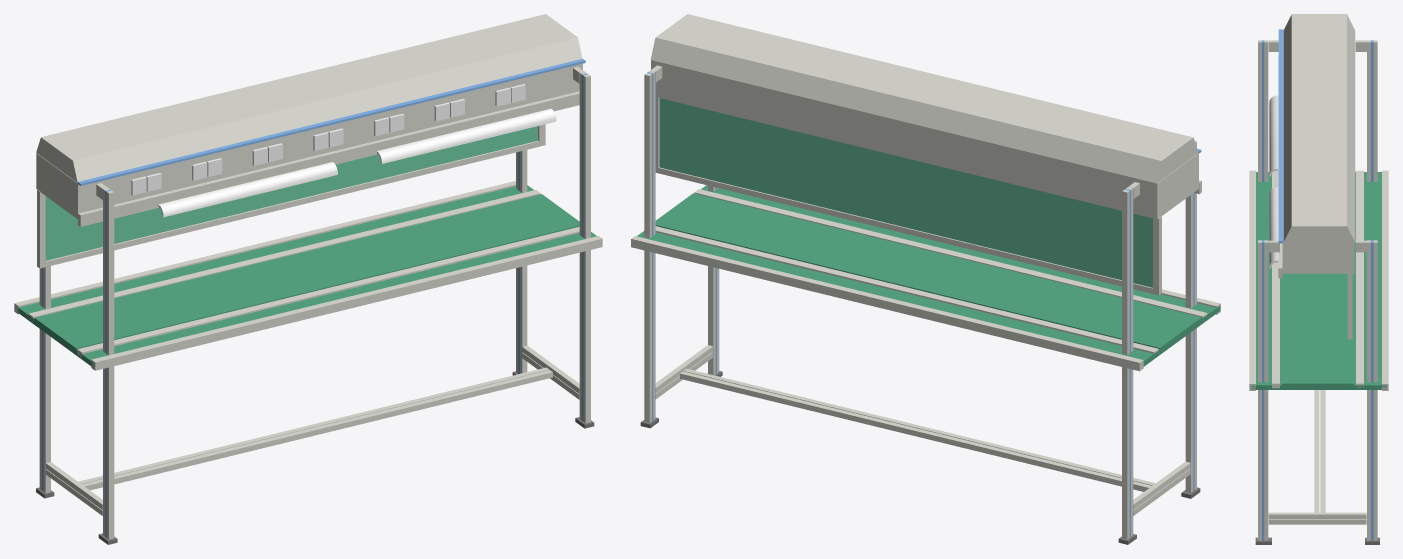
File: workspace.glb
3 renders of one model, left to right at view 1: azimuth 30°, elevation 25°; view 2: azimuth 150°, elevation 25°; view 3: azimuth 270°, elevation 25°, orthographic. The views are drawn at different scales.
Parts seen in each view (by area): view 1: 立方体_18, 立方体_8, 立方体_16, 立方体_17, 立方体_7, 立方体_11, 立方体_19, 立方体_25, 立方体_6, 立方体_28, 立方体_13, 立方体_10 (+8 smaller); view 2: 立方体_17, 立方体_18, 立方体_8, 立方体_16, 立方体_7, 立方体_12, 立方体_25, 立方体_5, 立方体, 立方体_26, 立方体_9, 立方体_28 (+3 smaller); view 3: 立方体_18, 立方体_8, 立方体_7, 立方体, 立方体_13, 立方体_16, 立方体_9, 立方体_26, 立方体_28, 立方体_11, 立方体_12, 立方体_20 (+9 smaller).
Part boxes in pixels (x1=…): 立方体_18: x1=36, y1=14, x2=582, y2=182; 立方体_8: x1=34, y1=194, x2=579, y2=353; 立方体_16: x1=36, y1=63, x2=582, y2=219; 立方体_17: x1=45, y1=126, x2=537, y2=260; 立方体_7: x1=18, y1=185, x2=596, y2=367; 立方体_11: x1=91, y1=236, x2=602, y2=370; 立方体_19: x1=78, y1=91, x2=579, y2=226; 立方体_25: x1=37, y1=124, x2=545, y2=268; 立方体_6: x1=82, y1=370, x2=552, y2=490; 立方体_28: x1=103, y1=188, x2=114, y2=539; 立方体_13: x1=579, y1=71, x2=590, y2=423; 立方体_10: x1=77, y1=226, x2=579, y2=357; 立方体_17: x1=659, y1=98, x2=1152, y2=287; 立方体_18: x1=650, y1=14, x2=1198, y2=183; 立方体_8: x1=655, y1=193, x2=1201, y2=349; 立方体_16: x1=651, y1=60, x2=1198, y2=219; 立方体_7: x1=637, y1=185, x2=1219, y2=366; 立方体_12: x1=631, y1=236, x2=1143, y2=371; 立方体_25: x1=655, y1=97, x2=1161, y2=295; 立方体_5: x1=679, y1=371, x2=1151, y2=491; 立方体: x1=644, y1=70, x2=655, y2=422; 立方体_26: x1=1122, y1=187, x2=1133, y2=539; 立方体_9: x1=655, y1=226, x2=1158, y2=354; 立方体_28: x1=1185, y1=141, x2=1196, y2=492; 立方体_18: x1=1283, y1=14, x2=1355, y2=242; 立方体_8: x1=1282, y1=243, x2=1353, y2=388; 立方体_7: x1=1250, y1=172, x2=1386, y2=389; 立方体: x1=1367, y1=240, x2=1377, y2=540; 立方体_13: x1=1258, y1=240, x2=1268, y2=540; 立方体_16: x1=1283, y1=30, x2=1354, y2=273; 立方体_9: x1=1356, y1=170, x2=1363, y2=387; 立方体_26: x1=1367, y1=40, x2=1377, y2=181; 立方体_28: x1=1258, y1=40, x2=1268, y2=181; 立方体_11: x1=1249, y1=170, x2=1255, y2=390; 立方体_12: x1=1382, y1=170, x2=1388, y2=390; 立方体_20: x1=1278, y1=29, x2=1283, y2=243.
Size of the model in its own units: 1.22 by 0.8566 by 0.3375.
